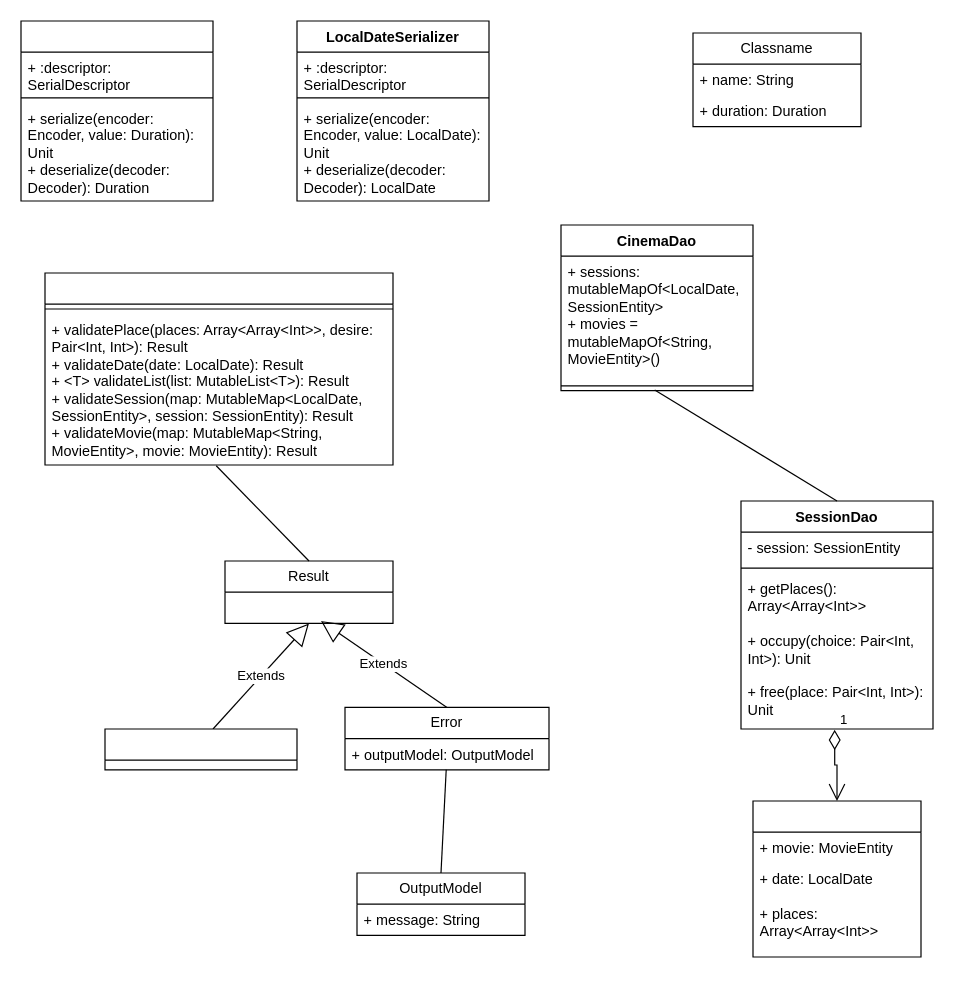
This 954x982 diagram has some shape labels left out. Each missing label, with the box of its shape:
CinemaValidator: (44, 272, 393, 465)
DurationSerializer: (20, 20, 213, 201)
SessionEntity: (752, 800, 921, 957)
Success: (104, 728, 297, 770)
